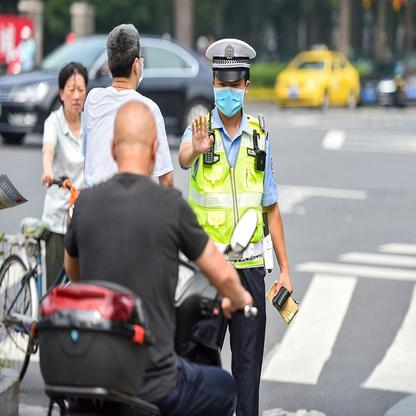target: (38, 99, 257, 411)
